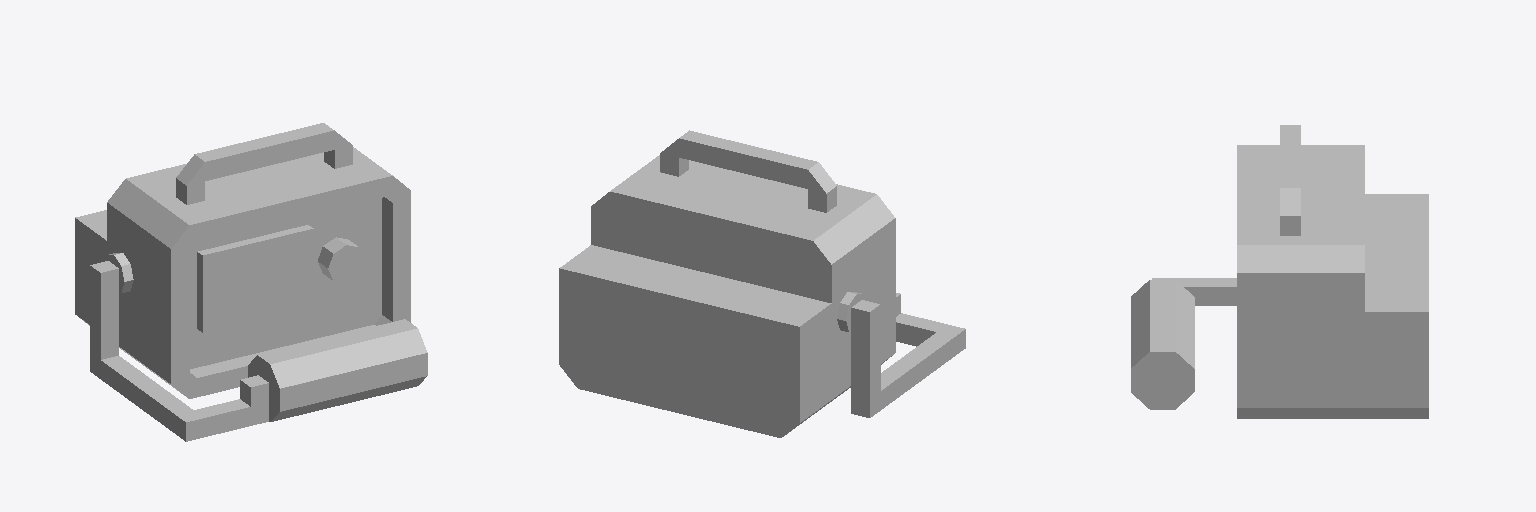
File: geiger.obj
3 renders of one model, left to right at view 1: azimuth 30°, elevation 25°; view 2: azimuth 150°, elevation 25°; view 3: azimuth 270°, elevation 25°, orthographic.
Parts seen in each view (by area): view 1: Cube.001; view 2: Cube.001; view 3: Cube.001.
Part boxes in pixels (x1,y1,x2,y2): Cube.001: (75, 123, 427, 441); Cube.001: (559, 130, 965, 437); Cube.001: (1131, 125, 1428, 418).
Size of the model in its own units: 0.9062 by 0.6875 by 0.875.